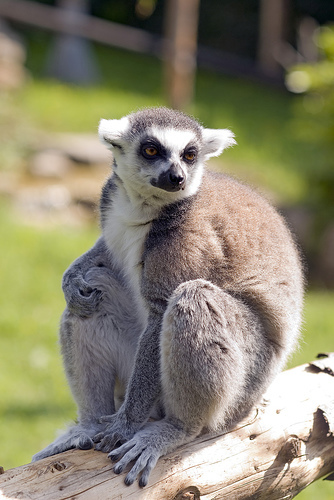cat: (28, 106, 303, 490)
